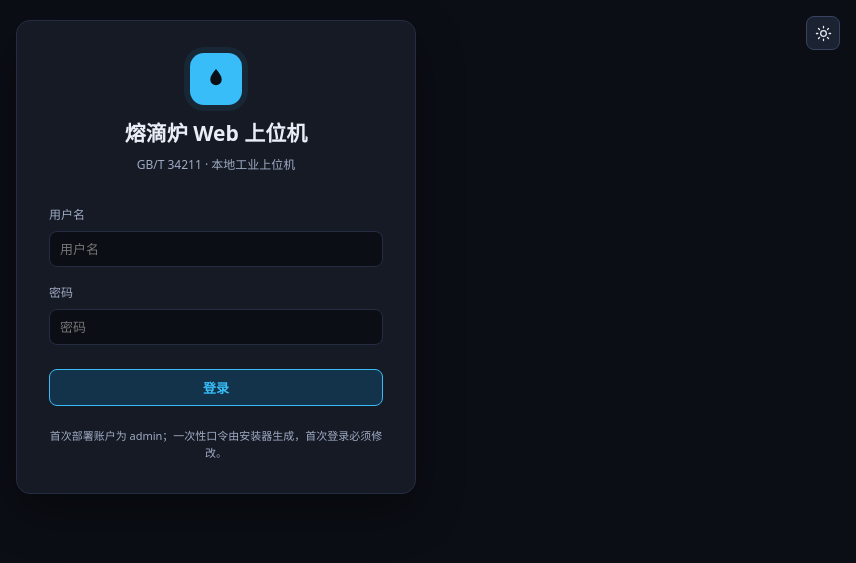
Test: 后端无响应时退回通用中文提示，不暴露传输层英文错误
In the field with id "login-username": point(216, 249) [49,231,383,267], type "admin"
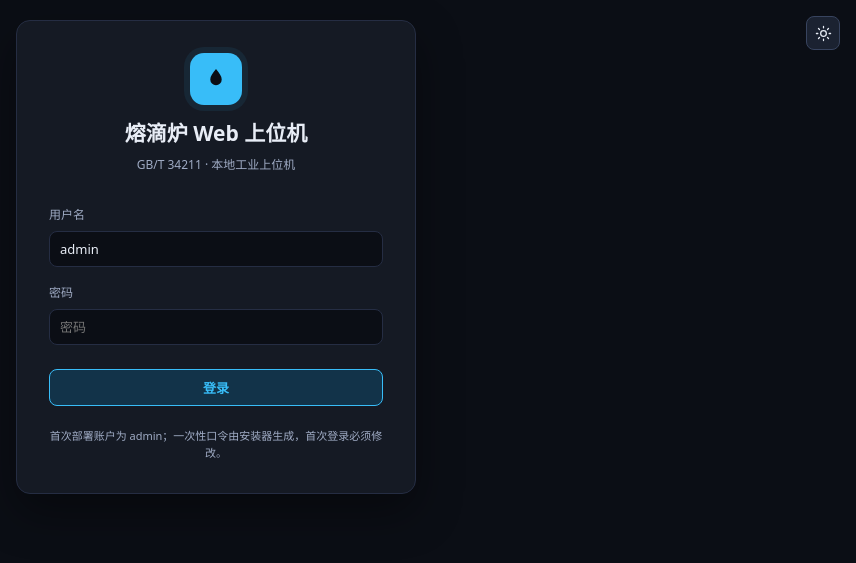
In the password field with id "login-password": point(216, 327) [49,309,383,345], type "whatever-password"
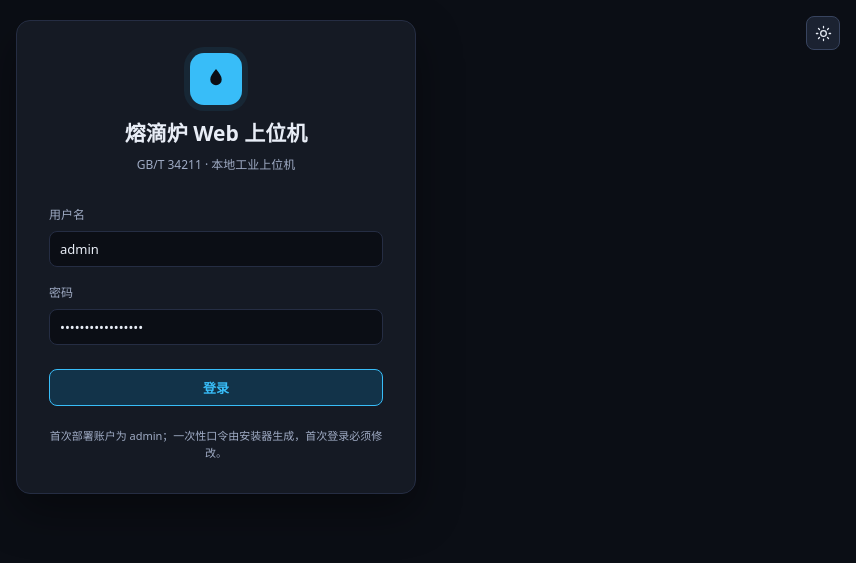
Submit the form, box [16,20,416,494]
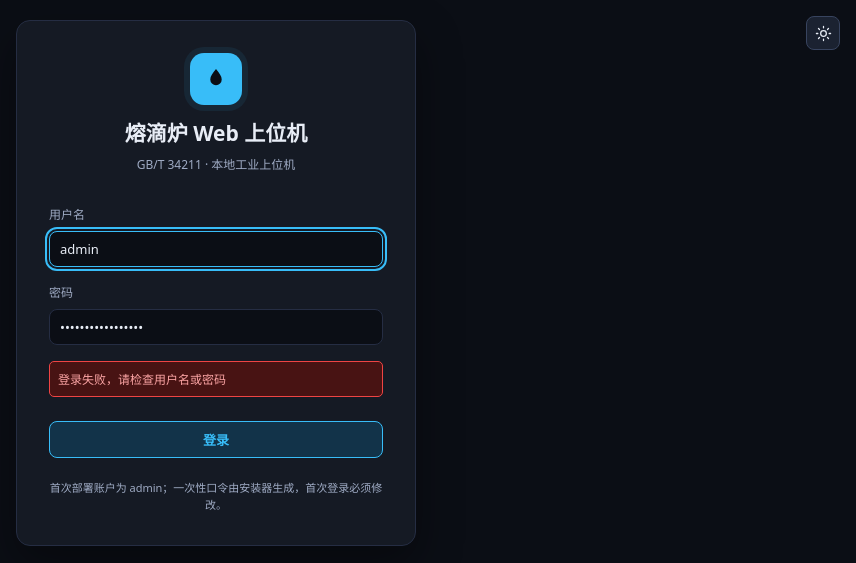
Expected: the text with class "login-error" reads "登录失败，请检查用户名或密码", [58,371,226,388]
